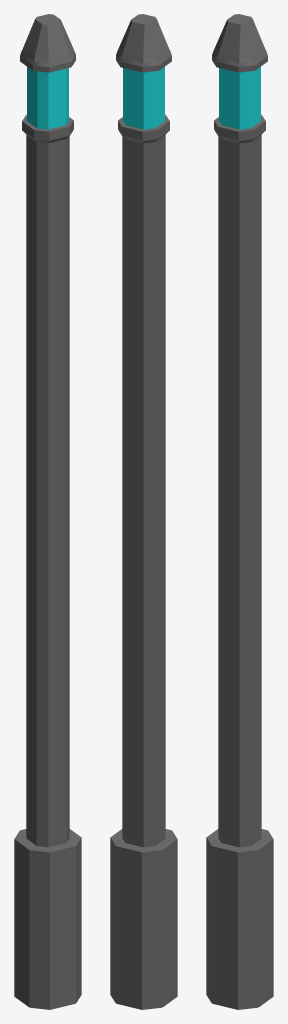
Rendered from StreetLight.fbx.
The picture shows the model from 3 angles, left to right: view 1: azimuth 30°, elevation 25°; view 2: azimuth 150°, elevation 25°; view 3: azimuth 330°, elevation 25°; orthographic projection.
Parts seen in each view (by area): view 1: Street_Ligt; view 2: Street_Ligt; view 3: Street_Ligt.
Part boxes in pixels (x1,y1,x2,y2): Street_Ligt: (14, 14, 81, 1009); Street_Ligt: (110, 14, 177, 1009); Street_Ligt: (206, 14, 273, 1009).
Bounding box in the file's own units: 21.84 × 391 × 21.84.
